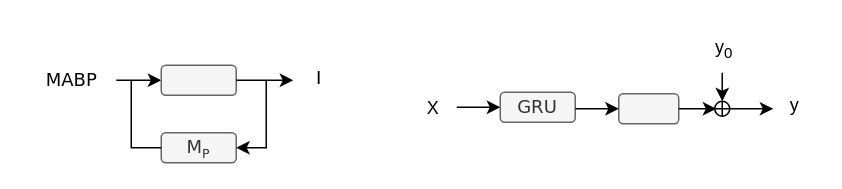
Image size: 842x189. Some labels were removed from this diagram. Here are the shapes that lost their labels. From the top down, the centre of each, then its label:
At (x=198, y=79): "M I".
At (x=648, y=108): "HU".
